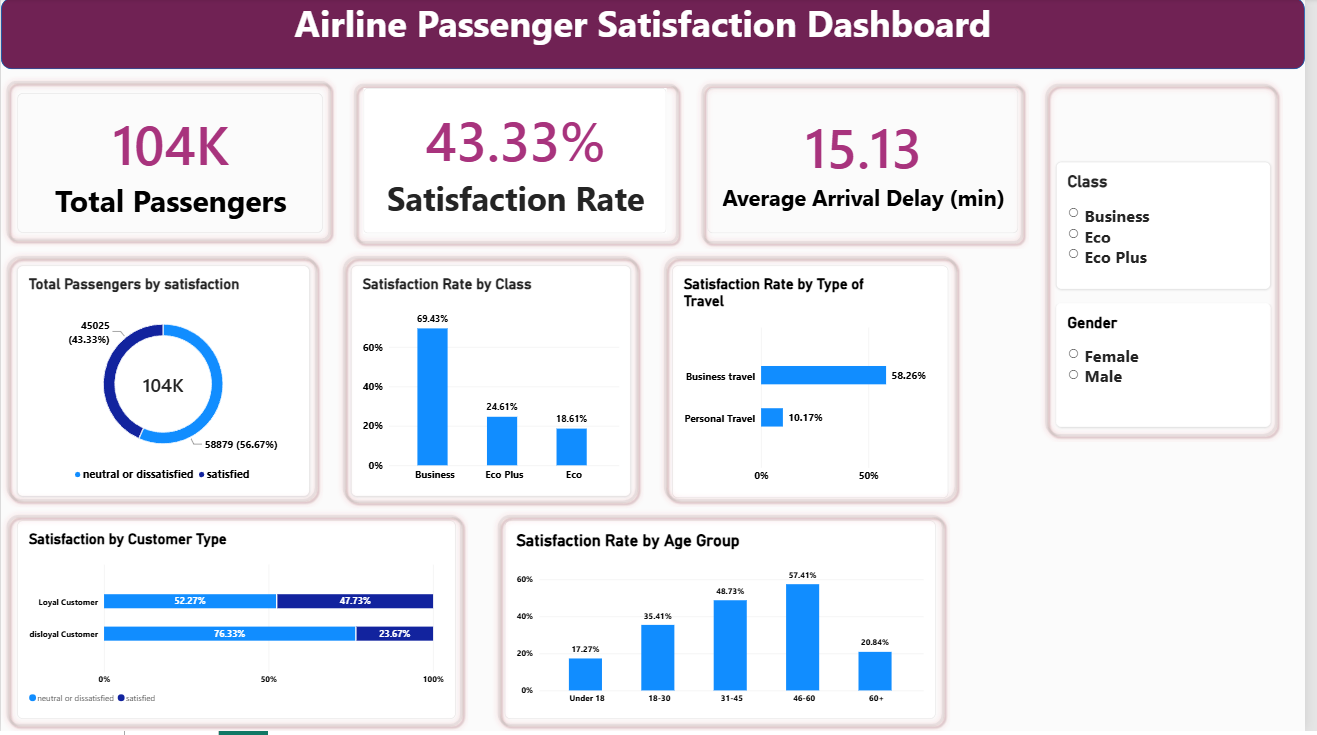

Layout of this report page (visuals, bound fields, positions):
{"tool":"powerbi","page":{"name":"Page 1","canvas":[1920,1080],"ordinal":0},"visuals":[{"type":"cardVisual","fields":{"Data":["airline_passenger_cleaned.Total Passengers"]},"box":[24,140,450,206],"z":0},{"type":"donutChart","fields":{"Category":["airline_passenger_cleaned.satisfaction"],"Y":["airline_passenger_cleaned.Total Passengers"]},"box":[24,394,430,340],"z":1000},{"type":"clusteredColumnChart","fields":{"Category":["airline_passenger_cleaned.Class"],"Y":["airline_passenger_cleaned.Satisfaction Rate"]},"box":[516,394,412,340],"z":2000},{"type":"clusteredBarChart","fields":{"Category":["airline_passenger_cleaned.Type of Travel"],"Y":["airline_passenger_cleaned.Satisfaction Rate"]},"box":[988.9,393.3,406,342],"z":3000},{"type":"listSlicer","fields":{"Values":["airline_passenger_cleaned.Class"]},"box":[1554,242,316,188],"z":4000},{"type":"listSlicer","fields":{"Values":["airline_passenger_cleaned.Gender"]},"box":[1554,450,316,182],"z":5000},{"type":"clusteredColumnChart","fields":{"Category":["airline_passenger_cleaned.Age Group"],"Y":["airline_passenger_cleaned.Satisfaction Rate"]},"box":[742,770,634,292],"z":6000},{"type":"hundredPercentStackedBarChart","title":"Satisfaction by Customer Type","fields":{"Category":["airline_passenger_cleaned.Customer Type"],"Series":["airline_passenger_cleaned.satisfaction"],"Y":["airline_passenger_cleaned.Total Passengers"]},"box":[23.6,770,645.5,291.8],"z":7000},{"type":"shape","box":[0,0,1919.6,104.9],"z":8000},{"type":"textbox","box":[0,0,1890.2,104.9],"z":9000},{"type":"shape","box":[0,114,494,252],"z":10000},{"type":"shape","box":[512,118,494,252],"z":11000},{"type":"shape","box":[1024,118,490,252],"z":12000},{"type":"shape","box":[0,372,474,378],"z":13000},{"type":"shape","box":[494.4,372.2,451.1,380],"z":14000},{"type":"shape","box":[1530,118,358,536],"z":15000},{"type":"cardVisual","fields":{"Data":["airline_passenger_cleaned.Average Arrival Delay"]},"box":[1040,132,458,214],"z":16000},{"type":"cardVisual","fields":{"Data":["airline_passenger_cleaned.Satisfaction Rate"]},"box":[534,132,446,214],"z":17000},{"type":"shape","box":[967.8,372.2,447.8,377.8],"z":18000},{"type":"shape","box":[0,752,688,328],"z":19000},{"type":"shape","box":[724,752,674,328],"z":20000}]}

Visuals, with their boxes in screenshot pixels (x1, y1, x2, y2), scaled from the page's 1920x1080 canvas onto the 1317x735 screenshot:
cardVisual - airline_passenger_cleaned.Total Passengers: x1=16 y1=95 x2=325 y2=235
donutChart - airline_passenger_cleaned.satisfaction x airline_passenger_cleaned.Total Passengers: x1=16 y1=268 x2=311 y2=500
clusteredColumnChart - airline_passenger_cleaned.Class x airline_passenger_cleaned.Satisfaction Rate: x1=354 y1=268 x2=637 y2=500
clusteredBarChart - airline_passenger_cleaned.Type of Travel x airline_passenger_cleaned.Satisfaction Rate: x1=678 y1=268 x2=957 y2=500
listSlicer - airline_passenger_cleaned.Class: x1=1066 y1=165 x2=1283 y2=293
listSlicer - airline_passenger_cleaned.Gender: x1=1066 y1=306 x2=1283 y2=430
clusteredColumnChart - airline_passenger_cleaned.Age Group x airline_passenger_cleaned.Satisfaction Rate: x1=509 y1=524 x2=944 y2=723
"Satisfaction by Customer Type" hundredPercentStackedBarChart: x1=16 y1=524 x2=459 y2=723
shape: x1=0 y1=0 x2=1316 y2=71
textbox: x1=0 y1=0 x2=1297 y2=71
shape: x1=0 y1=78 x2=339 y2=249
shape: x1=351 y1=80 x2=690 y2=252
shape: x1=702 y1=80 x2=1039 y2=252
shape: x1=0 y1=253 x2=325 y2=510
shape: x1=339 y1=253 x2=649 y2=512
shape: x1=1049 y1=80 x2=1295 y2=445
cardVisual - airline_passenger_cleaned.Average Arrival Delay: x1=713 y1=90 x2=1028 y2=235
cardVisual - airline_passenger_cleaned.Satisfaction Rate: x1=366 y1=90 x2=672 y2=235
shape: x1=664 y1=253 x2=971 y2=510
shape: x1=0 y1=512 x2=472 y2=734
shape: x1=497 y1=512 x2=959 y2=734
